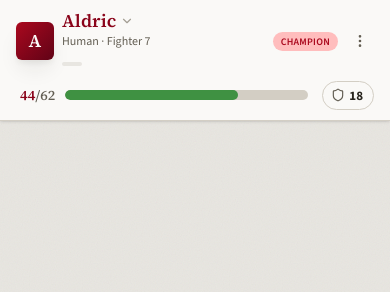
Test: CharacterSheetHeader banner chrome (#985) › puts Delete behind the ⋯ overflow, never as a bare banner button
This screenshot has width=390, height=292.
Expected: the button "Delete" is not shown
Click the button named "sheet actions": point(360, 41) [346,27,374,55]
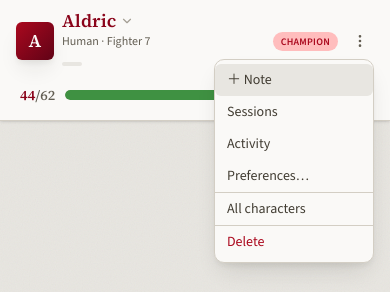
Result: the menu item "Delete" is shown at [215,225,373,258]
